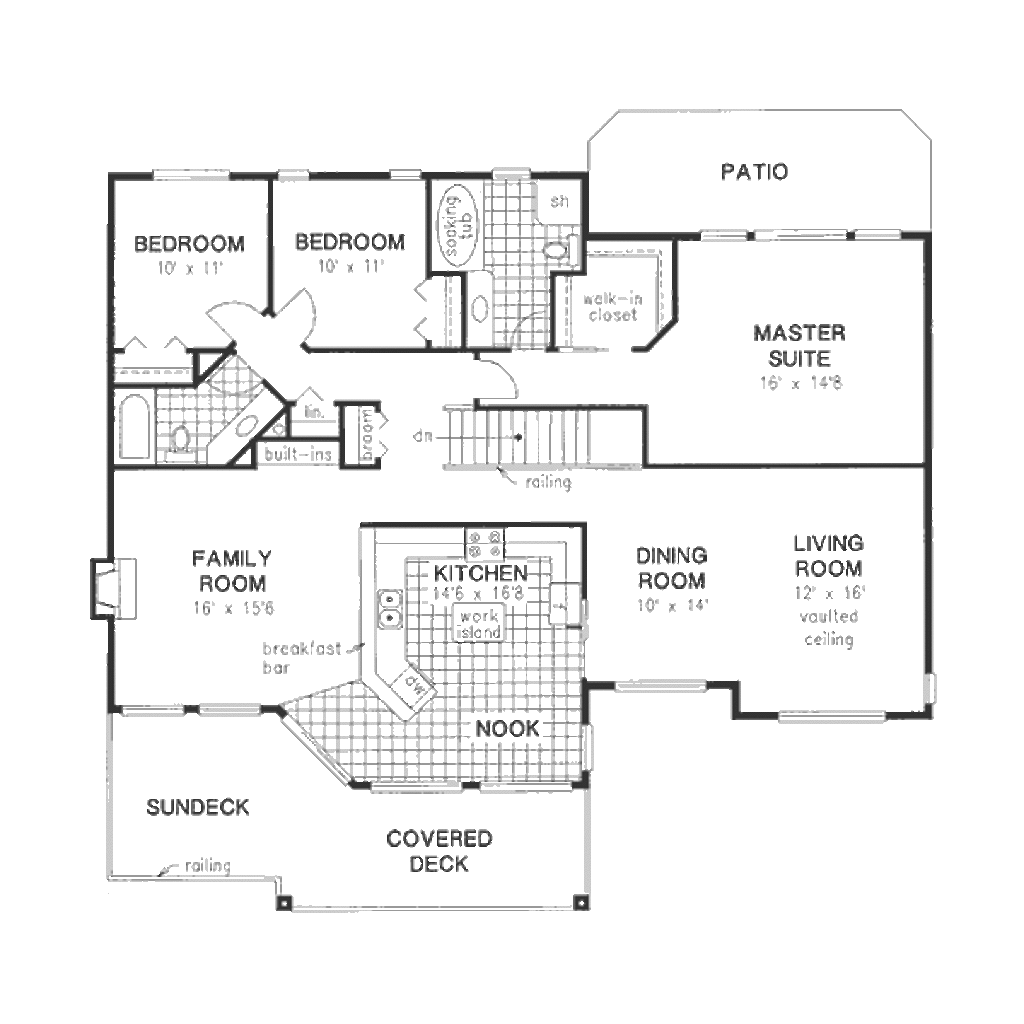door: (272, 278, 323, 346), (205, 294, 269, 346)
kitchen_bar: (370, 538, 586, 650)
large_sink: (163, 424, 206, 471), (538, 233, 586, 271)
small_sink: (219, 410, 275, 442), (469, 289, 497, 335)
stairs: (441, 391, 650, 488)
tub: (113, 389, 159, 471)
window: (148, 157, 238, 189), (613, 674, 714, 697), (369, 777, 467, 799), (197, 696, 263, 721), (122, 696, 184, 721), (273, 166, 320, 191), (388, 160, 433, 183), (486, 164, 533, 180)
